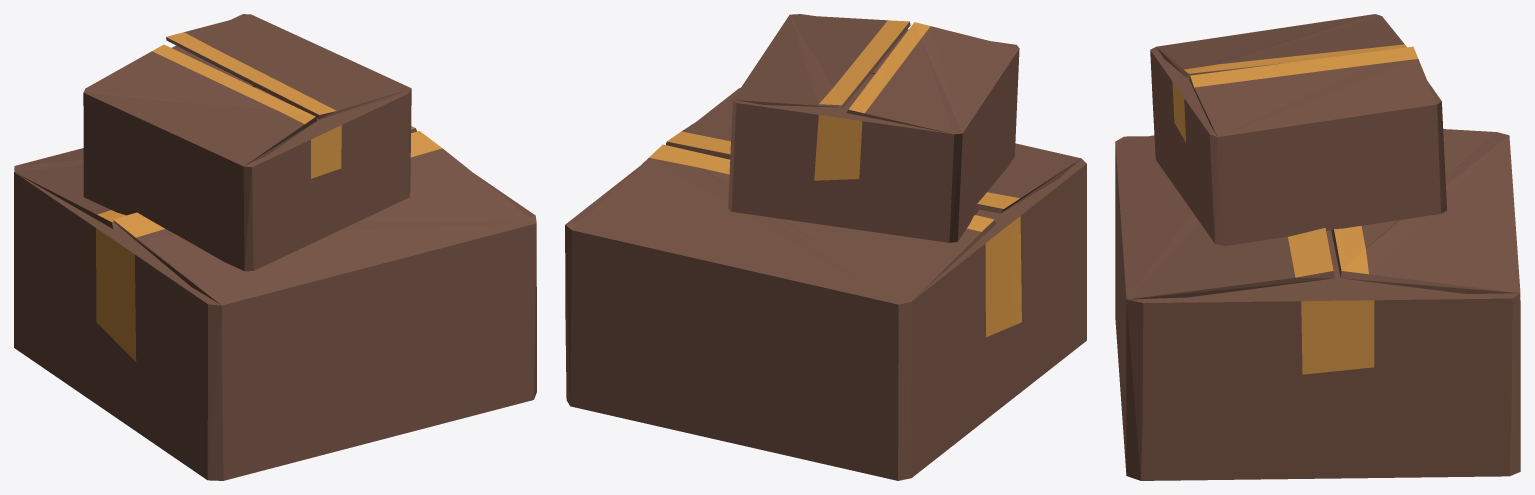
File: Cardboard Boxes-pMdXdrUHvX.glb
The picture shows the model from 3 angles, left to right: view 1: azimuth 30°, elevation 25°; view 2: azimuth 150°, elevation 25°; view 3: azimuth 270°, elevation 25°; orthographic projection.
Visible parts, largest first — view 1: Cardboard Boxes; view 2: Cardboard Boxes; view 3: Cardboard Boxes.
Part boxes in pixels (left/top/right/bottom): Cardboard Boxes: left=14, top=14, right=536, bottom=480; Cardboard Boxes: left=565, top=14, right=1086, bottom=480; Cardboard Boxes: left=1115, top=14, right=1520, bottom=480.
Size of the model in its own units: 0.3598 by 0.3115 by 0.3599.
